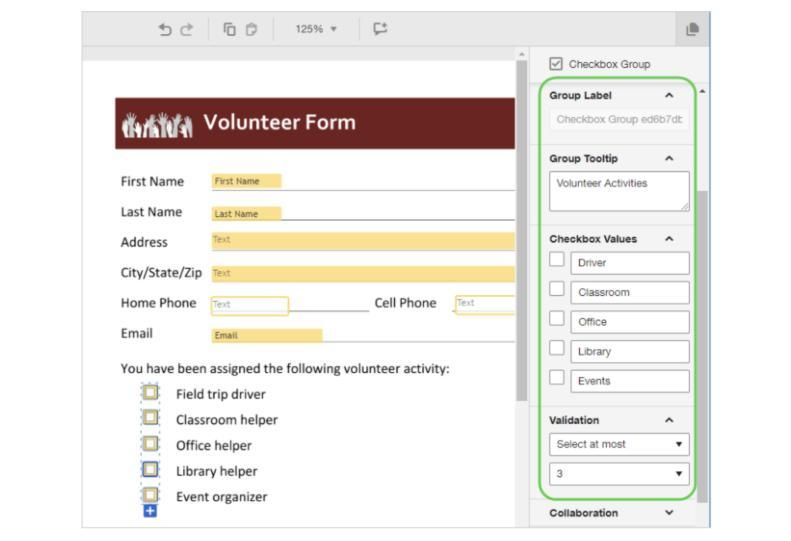checkbox: (145, 411, 160, 426), (144, 437, 159, 452), (550, 371, 565, 386), (144, 386, 159, 400), (551, 252, 565, 267), (551, 283, 565, 297), (551, 312, 565, 326), (551, 341, 565, 355), (144, 464, 159, 477), (145, 489, 159, 502), (551, 59, 563, 70)
dropdown: (551, 463, 690, 486), (550, 435, 690, 457)
icon: (687, 22, 702, 40), (158, 23, 174, 39), (374, 23, 390, 38), (181, 22, 195, 39), (223, 22, 237, 38), (246, 23, 260, 37), (145, 506, 158, 518), (664, 416, 678, 426), (666, 92, 676, 102), (665, 155, 676, 164), (666, 508, 676, 517), (666, 236, 675, 243)
input: (571, 252, 691, 275), (573, 341, 691, 364), (571, 283, 691, 305), (572, 312, 690, 334), (573, 372, 691, 392)
label: (176, 413, 282, 429), (176, 490, 270, 506), (177, 389, 269, 404), (177, 464, 258, 481), (568, 59, 655, 72), (177, 440, 252, 455), (548, 507, 622, 522), (550, 235, 639, 246), (550, 154, 619, 167), (549, 91, 615, 104), (550, 415, 603, 428)
